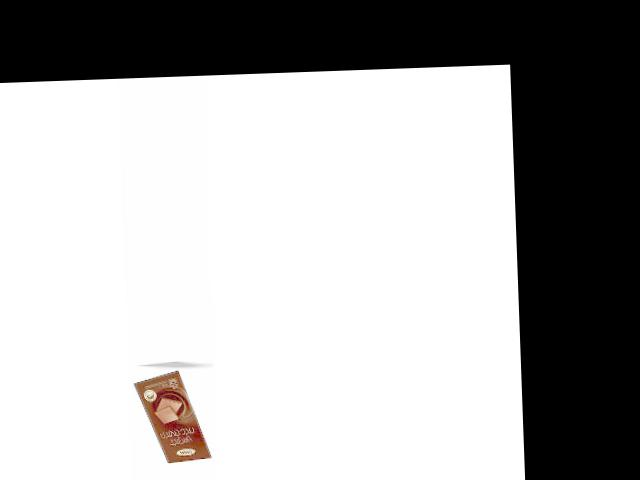chocolate: (130, 365, 212, 465)
